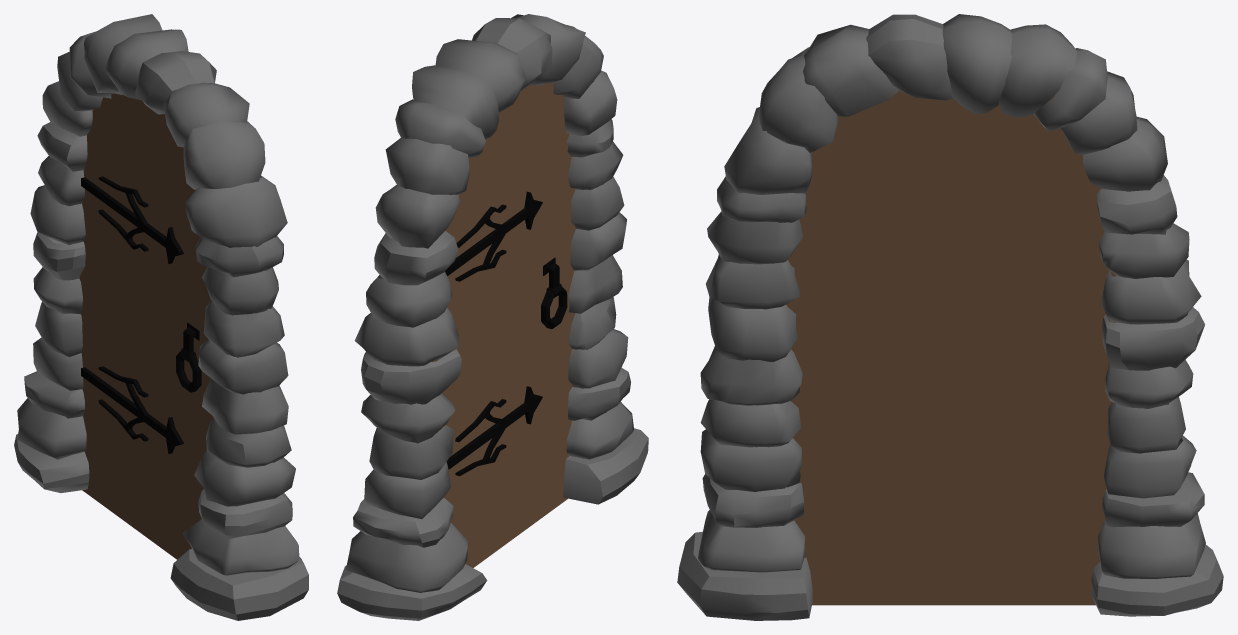
File: Puerta.fbx
3 renders of one model, left to right at view 1: azimuth 30°, elevation 25°; view 2: azimuth 150°, elevation 25°; view 3: azimuth 270°, elevation 25°, orthographic. The views are drawn at different scales.
Parts seen in each view (by area): view 1: Arco_Pierta, Puerta, Adorno_Puerta_02, Adorno_Puerta_01, Picapoorte; view 2: Arco_Pierta, Puerta, Adorno_Puerta_01, Adorno_Puerta_02, Picapoorte; view 3: Puerta, Arco_Pierta.
Boxes of the visible parts, x1=… form: Arco_Pierta: x1=14, y1=14, x2=308, y2=620; Puerta: x1=79, y1=93, x2=228, y2=559; Adorno_Puerta_02: x1=81, y1=176, x2=184, y2=264; Adorno_Puerta_01: x1=81, y1=366, x2=184, y2=453; Picapoorte: x1=176, y1=322, x2=201, y2=392; Arco_Pierta: x1=337, y1=14, x2=648, y2=620; Puerta: x1=432, y1=82, x2=575, y2=567; Adorno_Puerta_01: x1=446, y1=386, x2=542, y2=475; Adorno_Puerta_02: x1=445, y1=191, x2=542, y2=281; Picapoorte: x1=541, y1=257, x2=567, y2=329; Puerta: x1=786, y1=91, x2=1115, y2=605; Arco_Pierta: x1=677, y1=14, x2=1223, y2=620.
Bounding box in the file's own units: 58.91 × 251 × 214.
